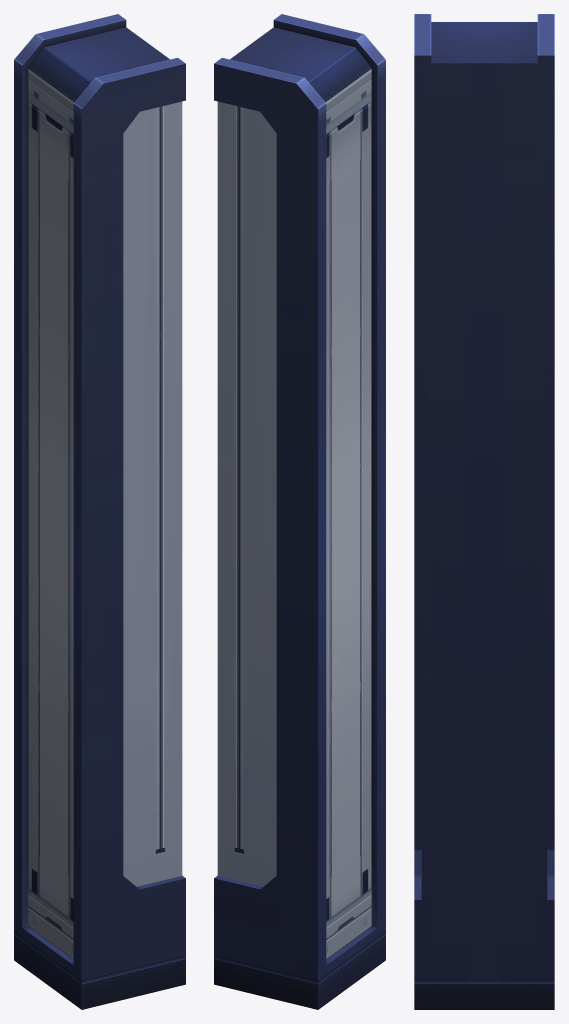
Rendered from my_carrier_01_pillar_01.glb.
3 renders of one model, left to right at view 1: azimuth 30°, elevation 25°; view 2: azimuth 150°, elevation 25°; view 3: azimuth 270°, elevation 25°, orthographic. The views are drawn at different scales.
Visible parts, largest first — view 1: my_carrier_01_pillar_01; view 2: my_carrier_01_pillar_01; view 3: my_carrier_01_pillar_01.
Boxes of the visible parts, x1=… form: my_carrier_01_pillar_01: x1=14, y1=14, x2=185, y2=1009; my_carrier_01_pillar_01: x1=214, y1=14, x2=385, y2=1009; my_carrier_01_pillar_01: x1=414, y1=14, x2=554, y2=1009.
Size of the model in its own units: 0.00518 by 0.0438 by 0.00584.
Materials: 1 (1 with a texture image).
